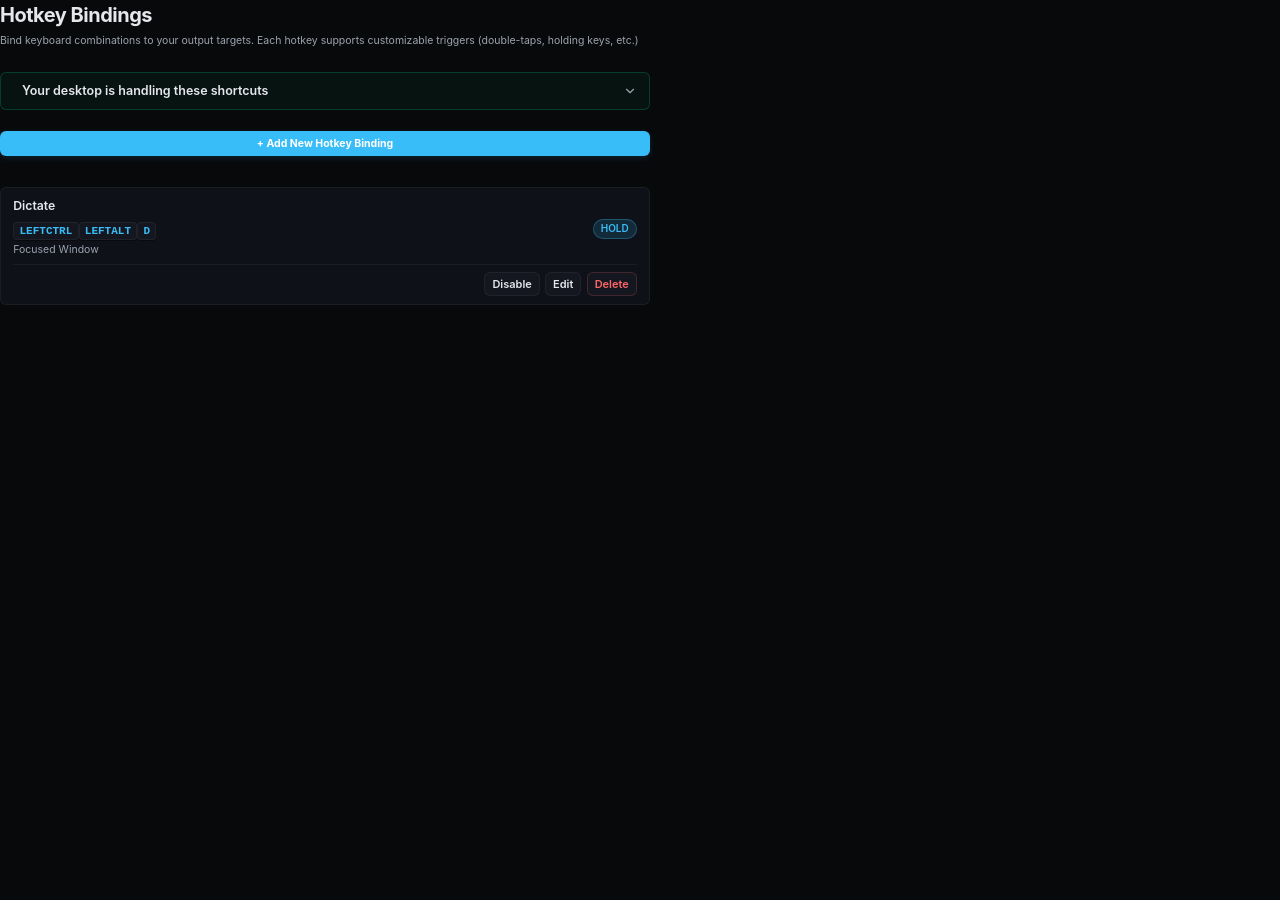
Test: HotkeysTab.svelte Conflict Detection and Nested Modal › keeps the previous combination when a capture is refused
The width and height of the screenshot is (1280, 900).
Click the button "Edit" at (563, 284), box [545,272,581,296]
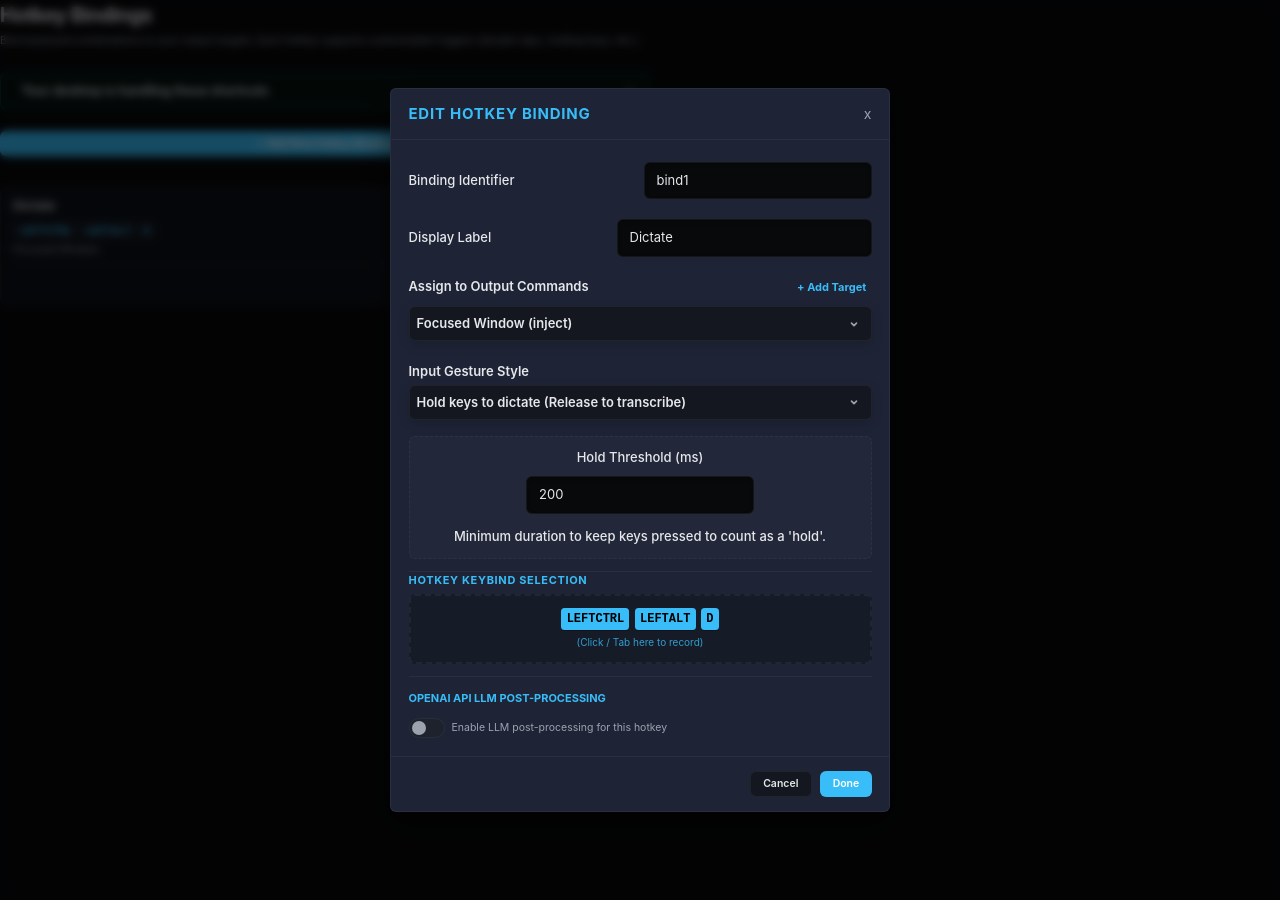
Focus the button with aria-label "Base Hotkey recorder input" at (640, 629), box [408,594,872,664]
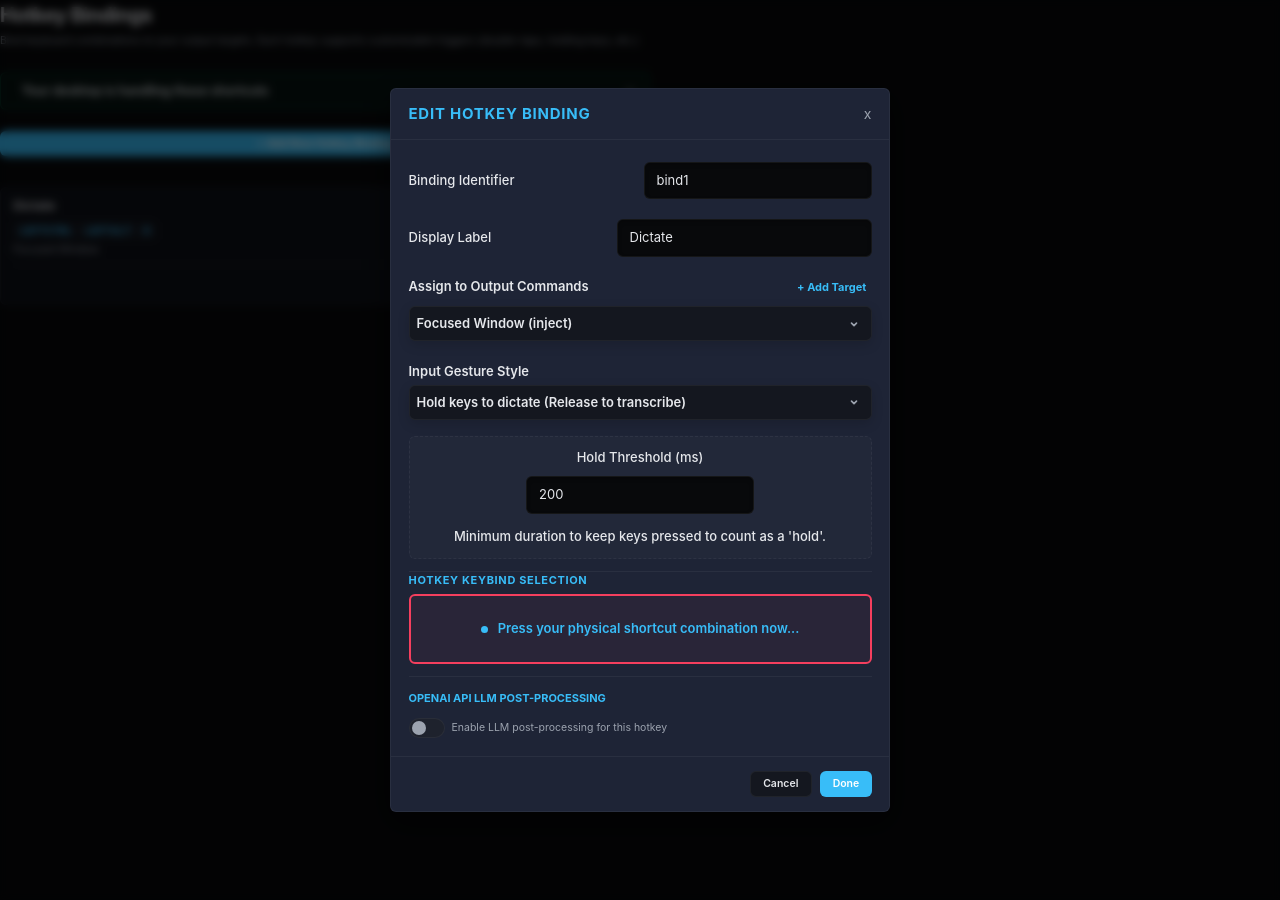
Press Shift in the button with aria-label "Base Hotkey recorder input", box [408,594,872,664]
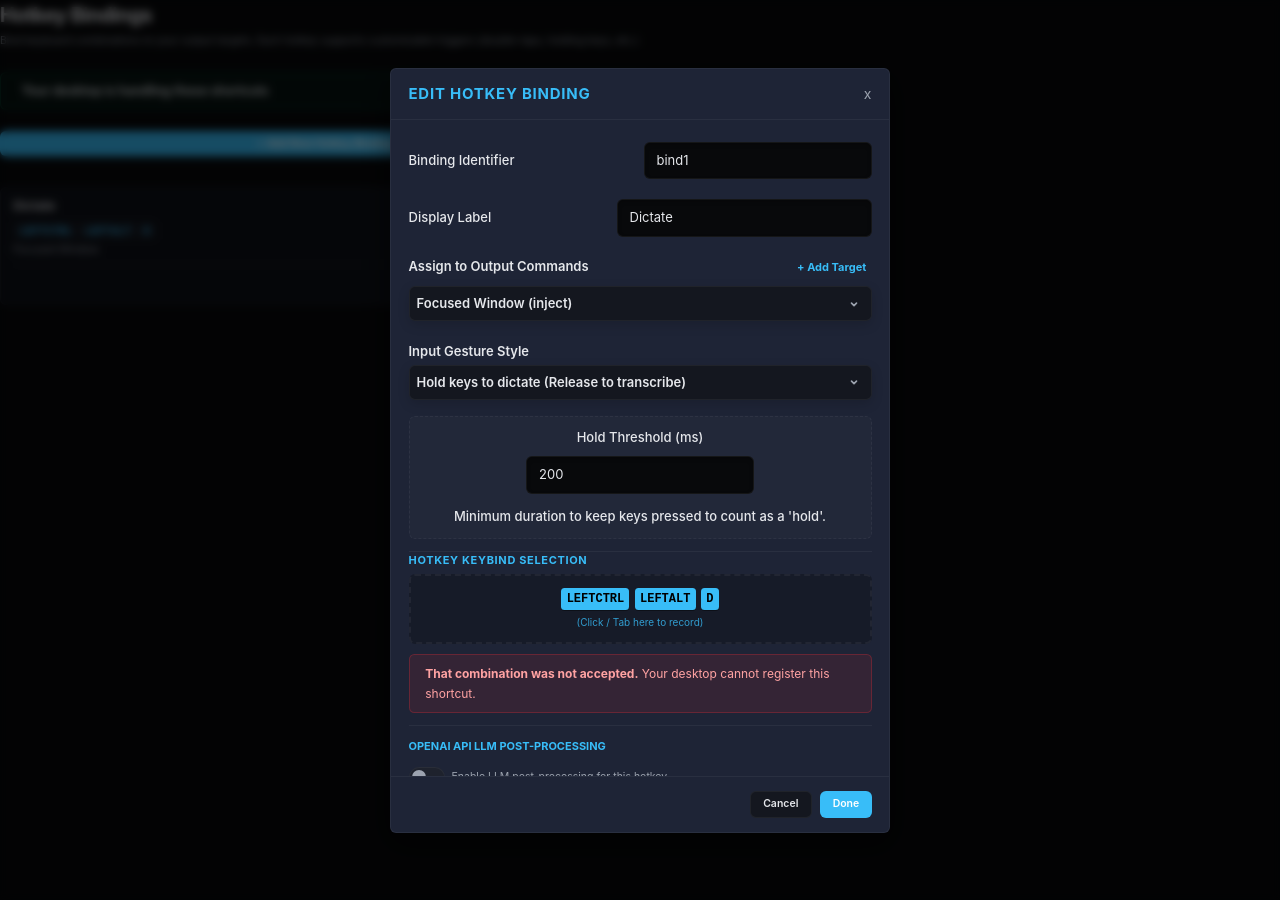
Expected: the text "LEFTCTRL" below "Hotkey Bindings" is shown, [20,225,72,237]
Result: the text "That combination was not accepted." is shown at [425,666,638,681]
